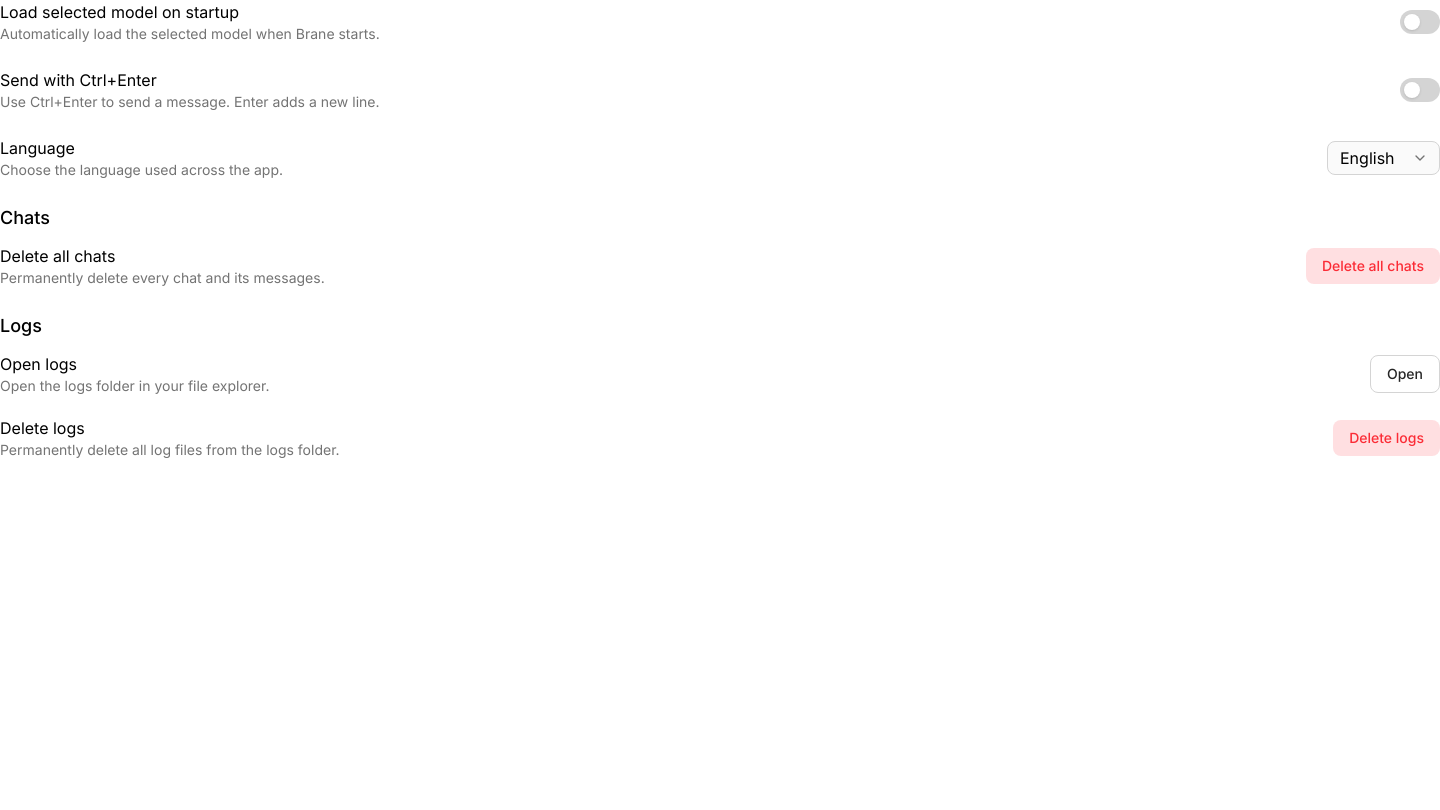
Test case: GeneralSettings logs › keeps the logs when the deletion is cancelled
Click the button "Delete logs" at (1387, 438), box [1333, 420, 1439, 456]
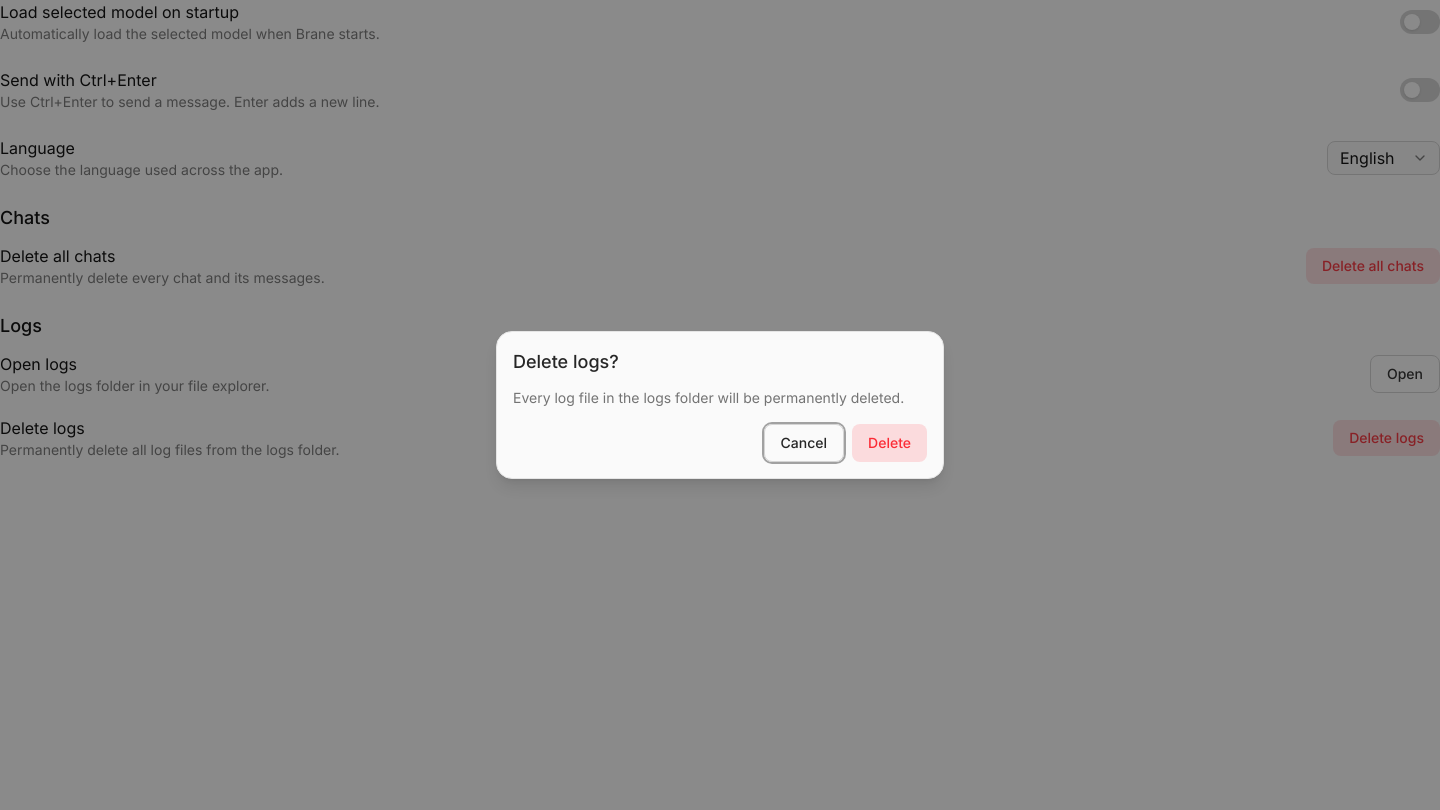
Click the button "Cancel" at (804, 443), box [764, 424, 844, 462]
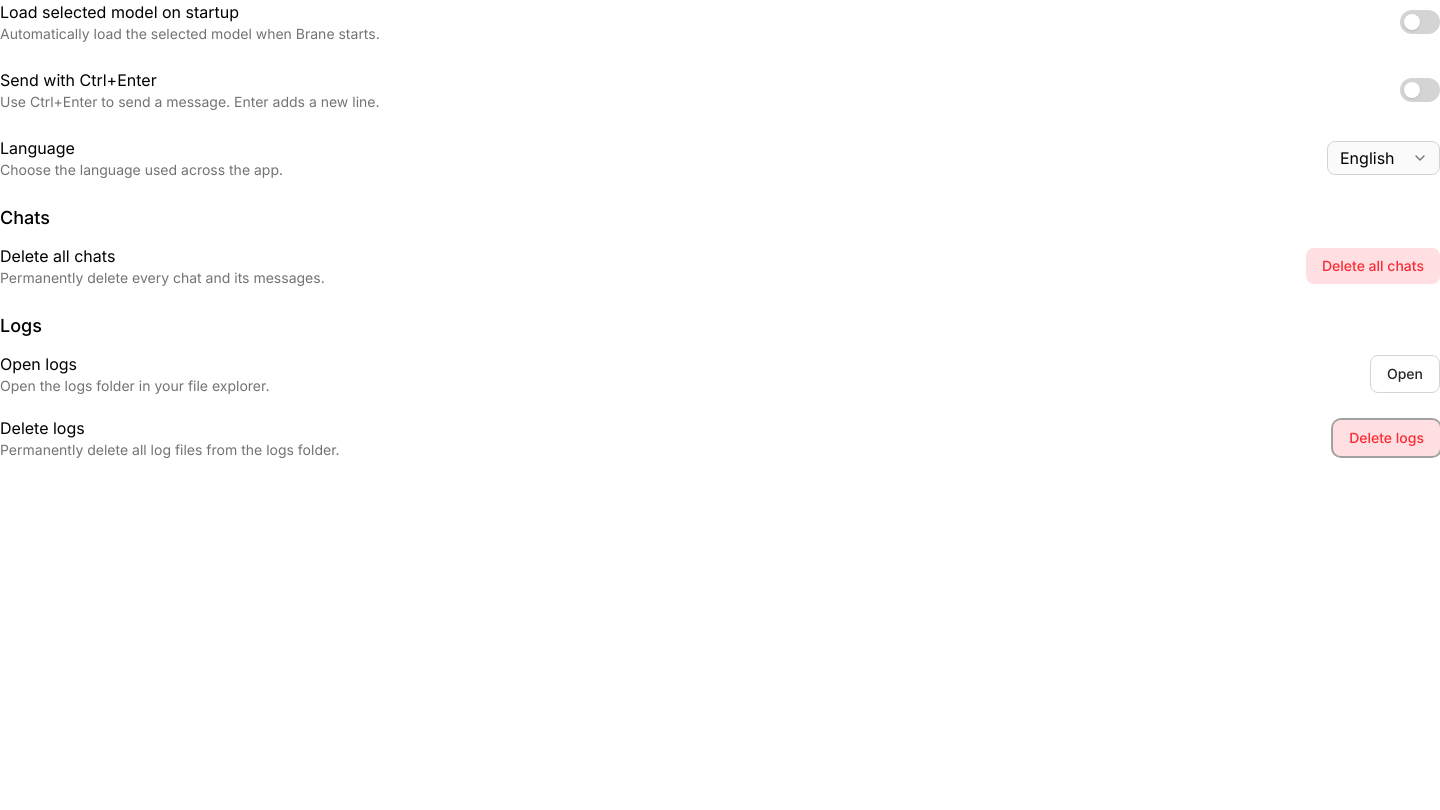
Expected: the dialog is gone
